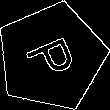P_NE: (20, 30, 82, 84)
